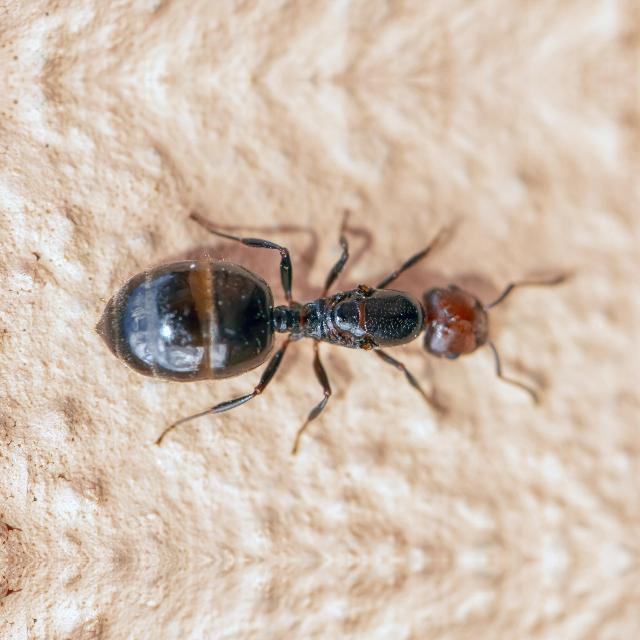Crematogaster: (82, 237, 530, 399)
